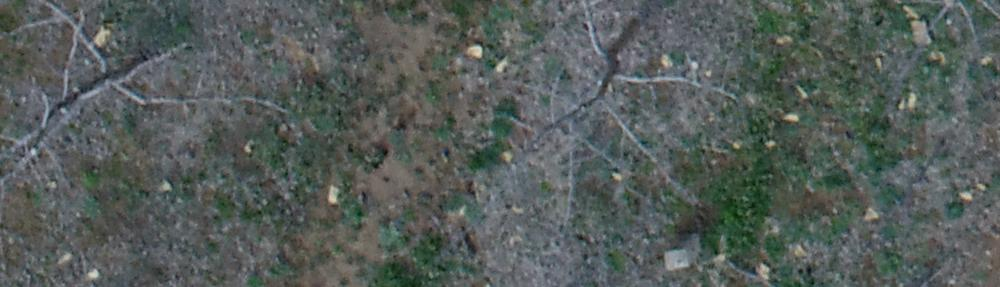apple: (10, 10, 265, 216), (500, 10, 754, 215)
